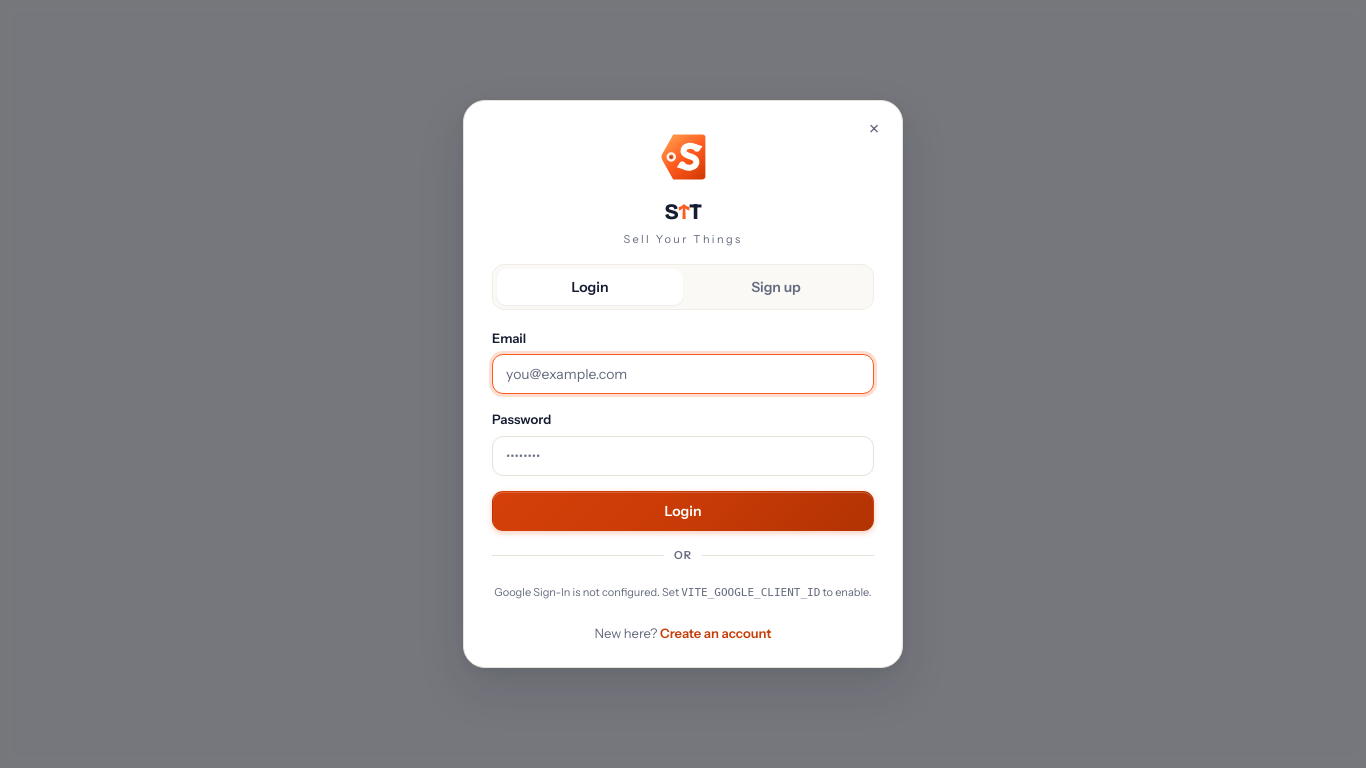
Test: AuthModal › shows an error toast and keeps the modal open when login is rejected
Type "jane@example.com" into the field with placeholder "you@example.com" at (683, 374), box x1=492 y1=354 x2=874 y2=394
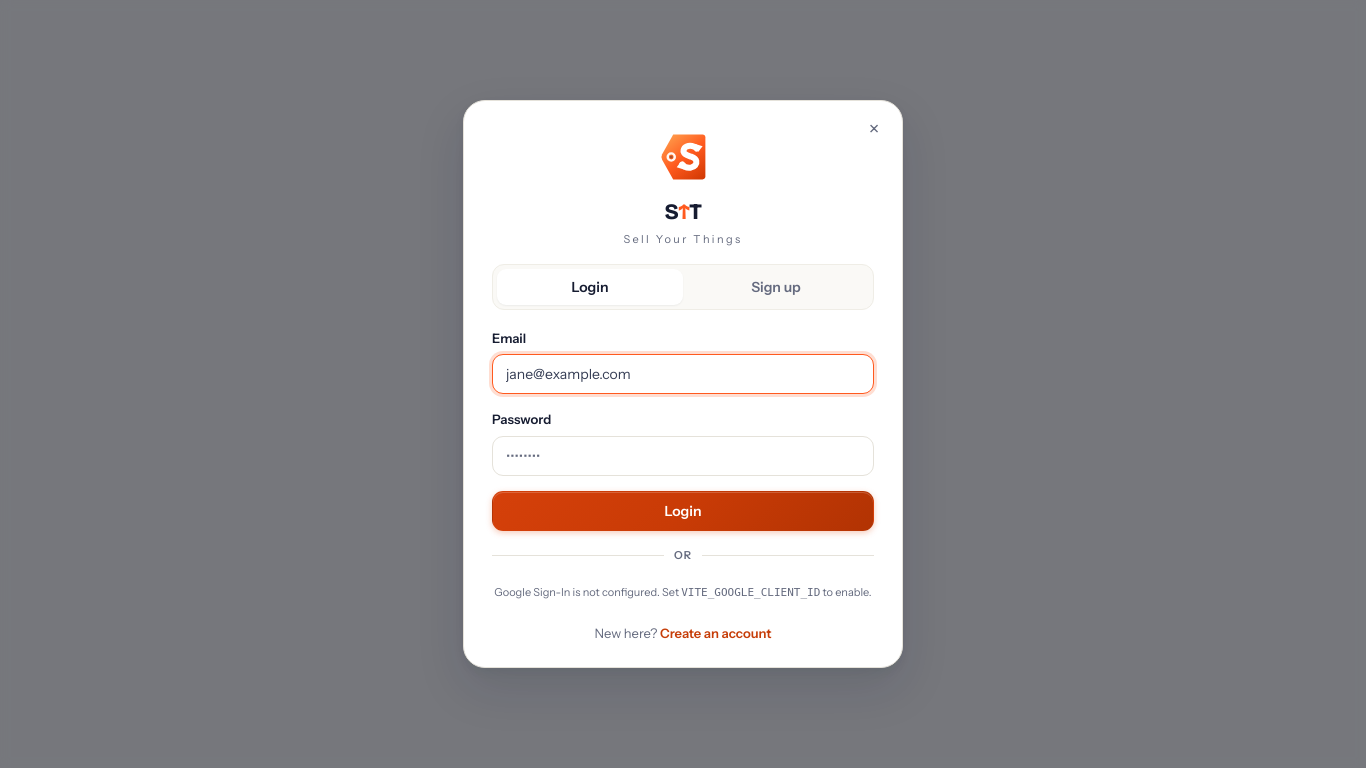
Type "secret123" into the password field with placeholder "••••••••" at (683, 456), box x1=492 y1=436 x2=874 y2=476
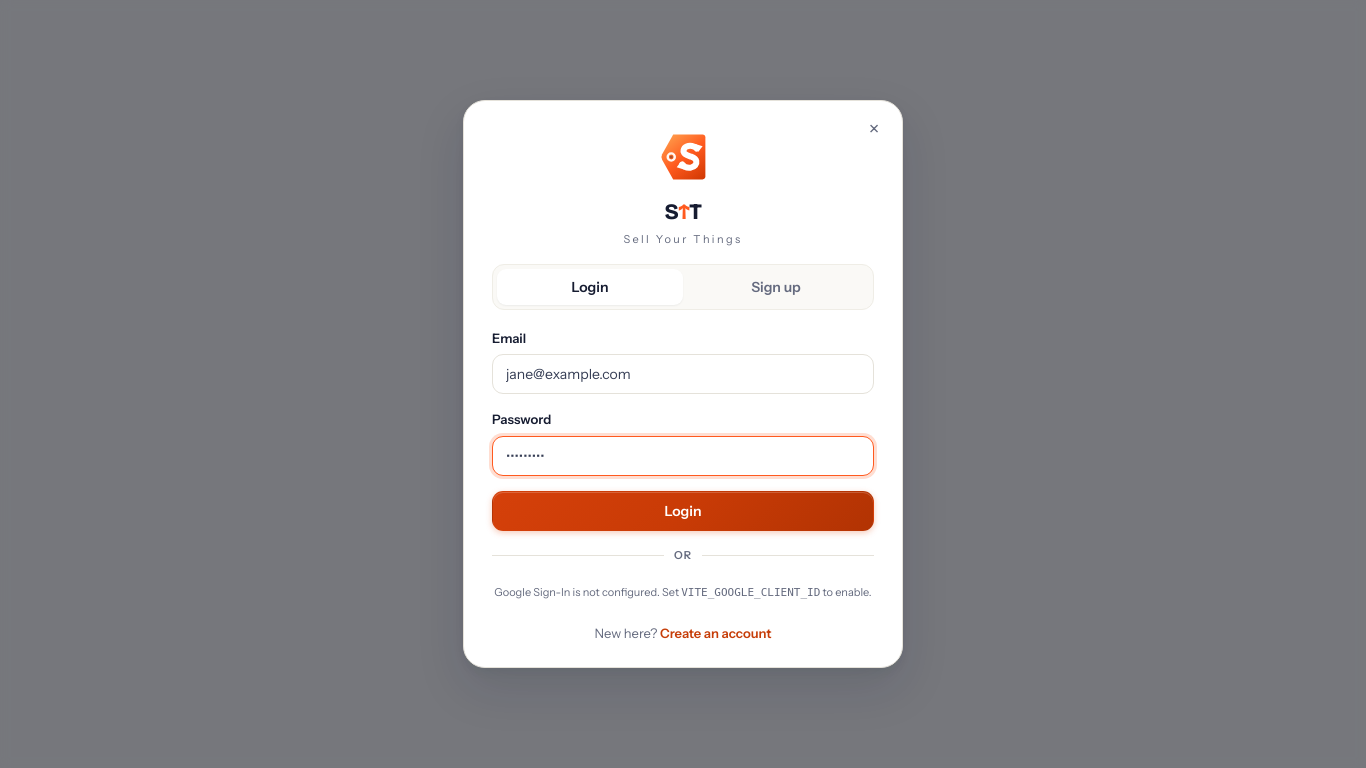
Click the button "Login" at (683, 511), box x1=492 y1=491 x2=874 y2=531
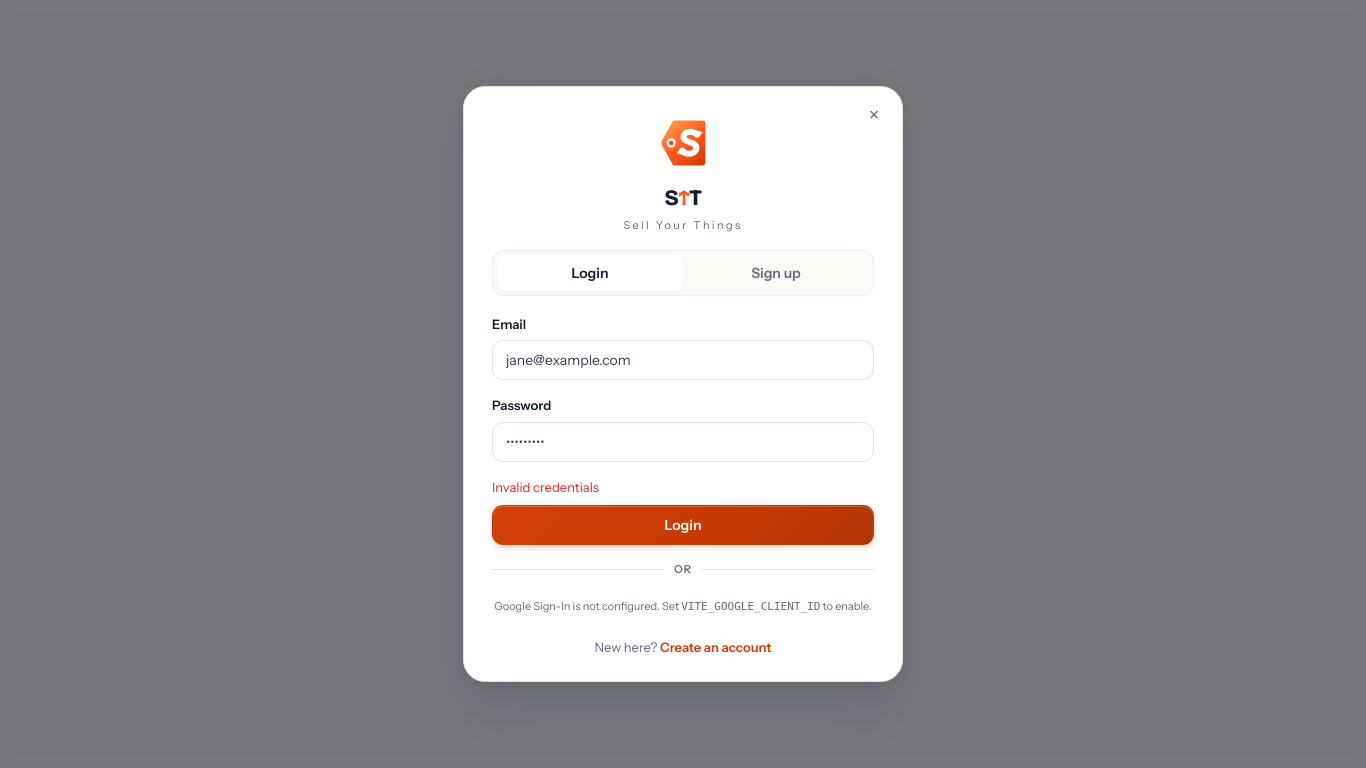
Check: the text "Invalid credentials" is shown, box x1=492 y1=478 x2=599 y2=494
